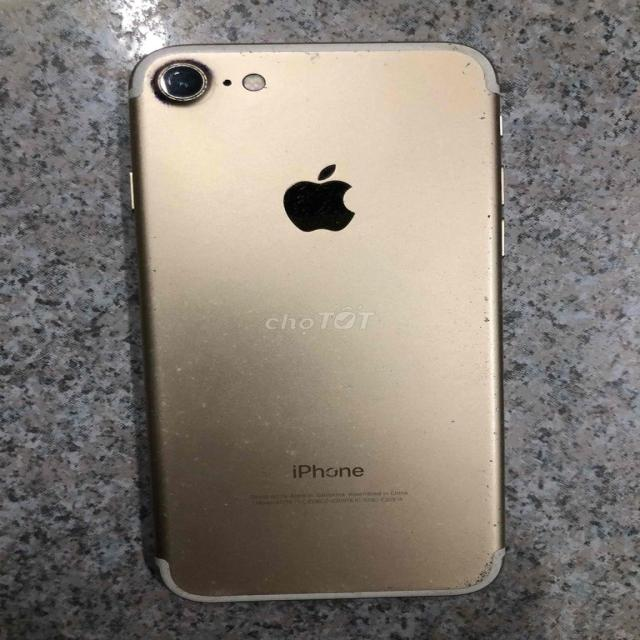gen_7_8: (108, 27, 533, 611)
scratch: (120, 32, 330, 118), (460, 414, 514, 597), (468, 175, 515, 356), (136, 334, 188, 496), (446, 38, 502, 131), (260, 402, 308, 464)
